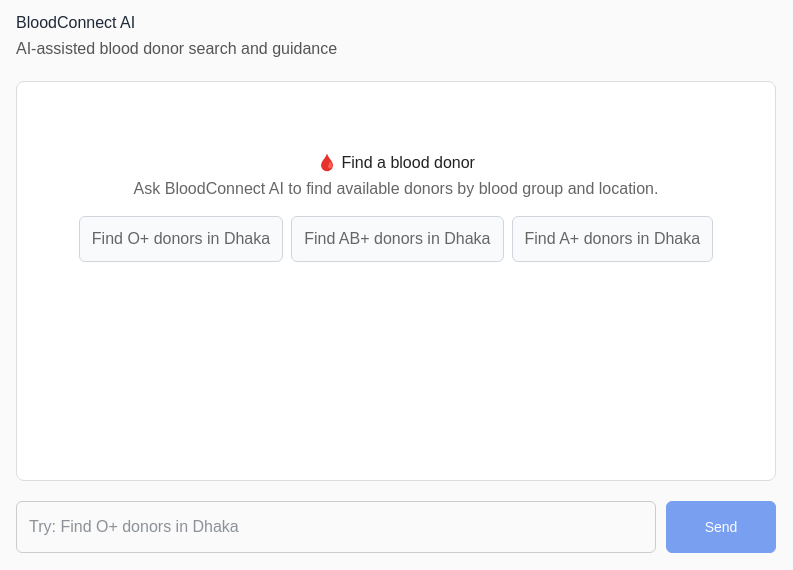
Scenario: BloodConnect AI Chat › shows the error state when sending fails
Type "Find AB+ donors in Dhaka" into the field named "Ask BloodConnect AI".
click(336, 527); type("Find AB+ donors in Dhaka")  # box [16, 501, 656, 553]
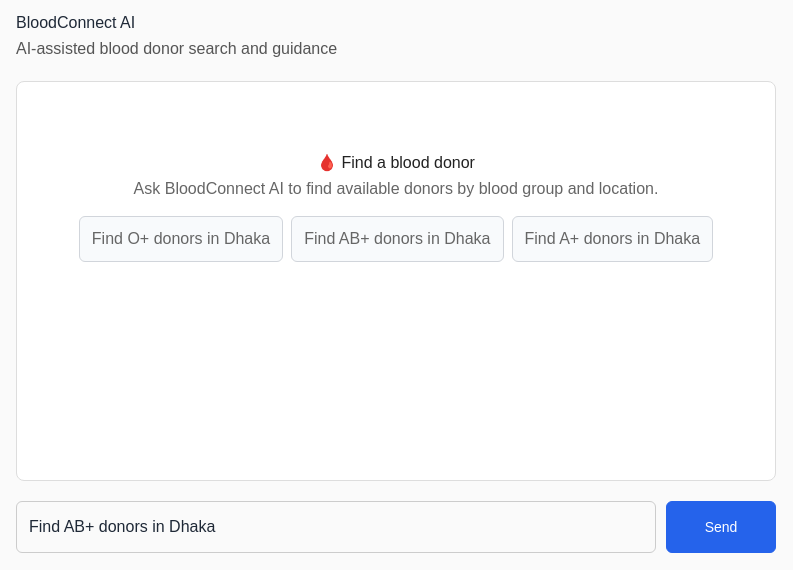
Click the button with aria-label "Send message".
click(721, 527)  # box [666, 501, 776, 553]
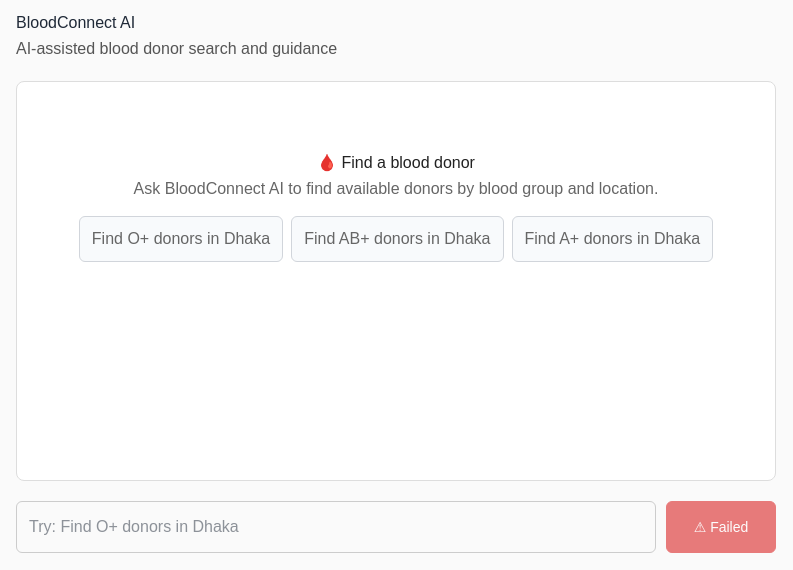
Check: the button "⚠ Failed" is shown, box [666, 501, 776, 553]
